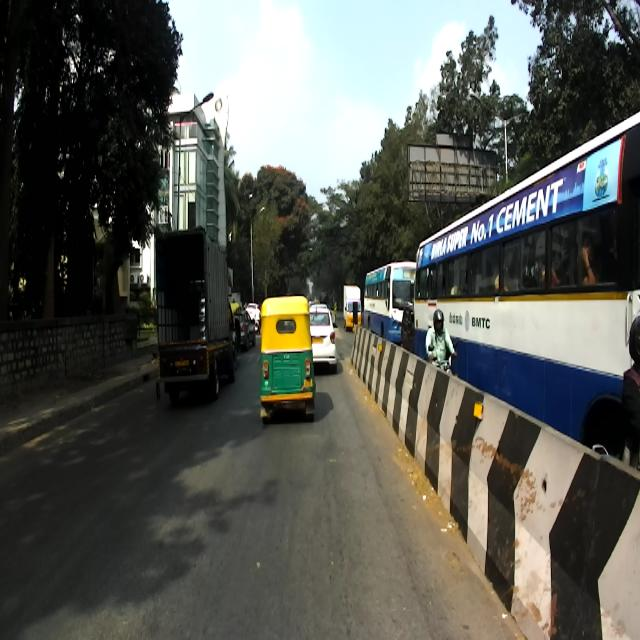auto ahead at: (256, 297, 314, 418)
car ahead at: (154, 221, 238, 416)
